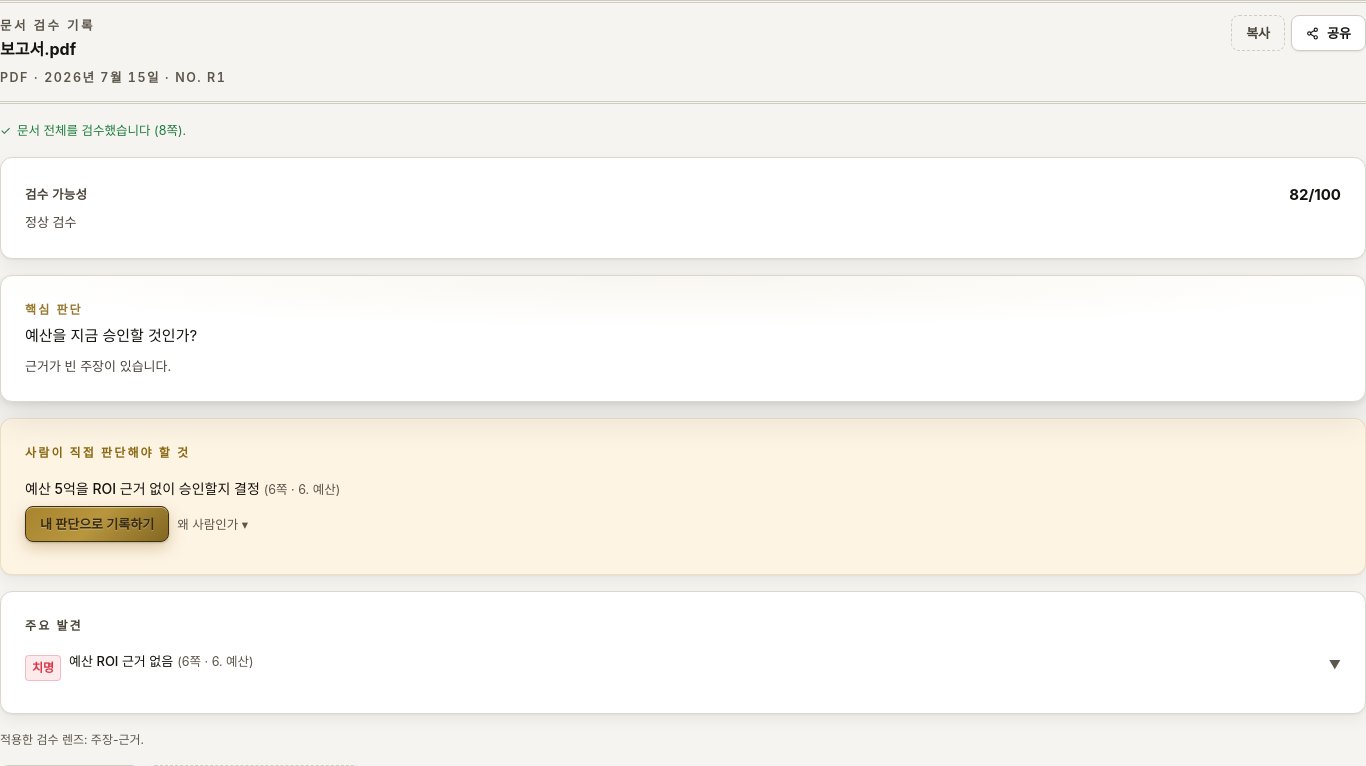
Test case: ReceiptView — scannable by default › hides finding detail until the finding is tapped
Expected: the text "정성 서술로만 갈음됨" is not shown
Click the button "치명 예산 ROI 근거 없음(6쪽 · 6. 예산) ▼" at (43, 668), box [25,653,1341,681]
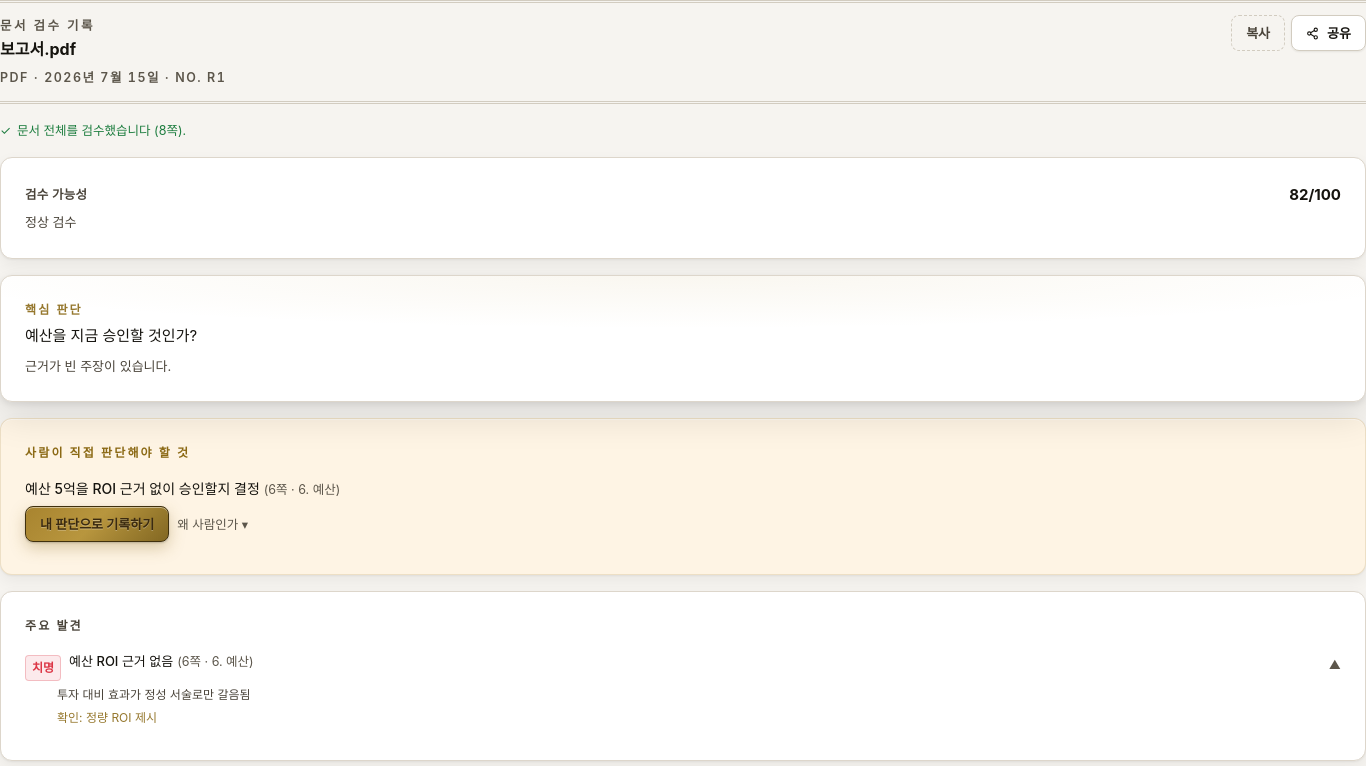
Expected: the text "정성 서술로만 갈음됨" is shown, [57,687,250,702]
